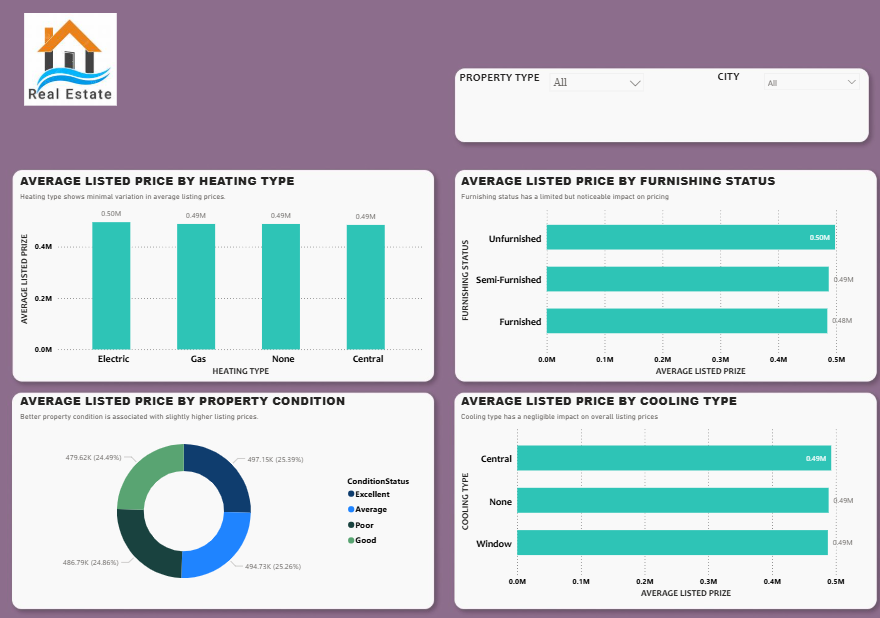

This screenshot's page, from the dashboard's own definition file:
{"tool":"powerbi","page":{"name":"PROPERTY CONDITION AND QUALITY","canvas":[1440,1024],"ordinal":3},"visuals":[{"type":"donutChart","title":"AVERAGE LISTED PRICE BY PROPERTY CONDITION","fields":{"Category":["Properties.ConditionStatus"],"Y":["Measure_Table.Avg_Listed_Price"]},"box":[35,647.5,665,340],"z":0},{"type":"barChart","title":"AVERAGE LISTED PRICE BY FURNISHING STATUS","fields":{"Category":["Properties.FurnishingStatus"],"Y":["Measure_Table.Avg_Listed_Price"]},"box":[750,287.5,665,337.5],"z":1000},{"type":"barChart","title":"AVERAGE LISTED PRICE BY COOLING TYPE","fields":{"Category":["Properties.CoolingType"],"Y":["Measure_Table.Avg_Listed_Price"]},"box":[750,647.5,665,340],"z":2000},{"type":"columnChart","title":"AVERAGE LISTED PRICE BY HEATING TYPE","fields":{"Y":["Measure_Table.Avg_Listed_Price"],"Category":["Properties.HeatingType"]},"box":[35,287.5,665,337.5],"z":3000},{"type":"slicer","title":"CITY","fields":{"Values":["Properties.City"]},"box":[1240,117.5,175,52.5],"z":4000},{"type":"slicer","title":" PROPERTY TYPE","fields":{"Values":["Properties.PropertyType"]},"box":[890.9,116.2,173.2,47.8],"z":5000},{"type":"textbox","box":[749.6,116.2,141.3,127.6],"z":6000},{"type":"textbox","box":[1167.5,115,115,107.5],"z":7000},{"type":"image","box":[25.1,29.6,193.7,150.4],"z":8000}]}

Visuals, with their boxes in screenshot pixels (x1, y1, x2, y2), scaled from the page's 1440x1024 canvas onto the 880x618 screenshot:
"AVERAGE LISTED PRICE BY PROPERTY CONDITION" donutChart: locate(21, 391, 428, 596)
"AVERAGE LISTED PRICE BY FURNISHING STATUS" barChart: locate(458, 174, 865, 377)
"AVERAGE LISTED PRICE BY COOLING TYPE" barChart: locate(458, 391, 865, 596)
"AVERAGE LISTED PRICE BY HEATING TYPE" columnChart: locate(21, 174, 428, 377)
"CITY" slicer: locate(758, 71, 865, 103)
" PROPERTY TYPE" slicer: locate(544, 70, 650, 99)
textbox: locate(458, 70, 544, 147)
textbox: locate(713, 69, 784, 134)
image: locate(15, 18, 134, 109)
